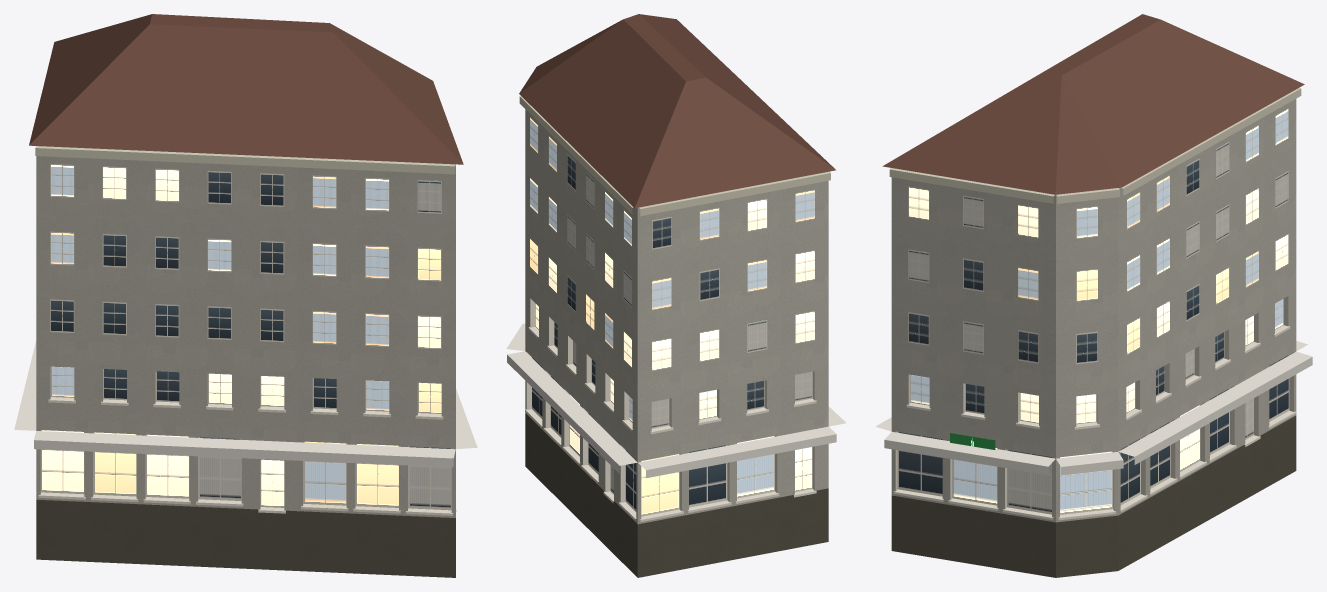
The model's file is langC_piro.glb.
The picture shows the model from 3 angles, left to right: view 1: azimuth 30°, elevation 25°; view 2: azimuth 150°, elevation 25°; view 3: azimuth 270°, elevation 25°; orthographic projection. The views are drawn at different scales.
Parts seen in each view (by area): view 1: langC_piro; view 2: langC_piro; view 3: langC_piro.
Part boxes in pixels (x1,y1,x2,y2): langC_piro: (14,14,477,577); langC_piro: (506,14,846,577); langC_piro: (875,14,1312,577).
Size of the model in its own units: 20.42 by 24.86 by 21.44.
3 materials, 3 textured.
